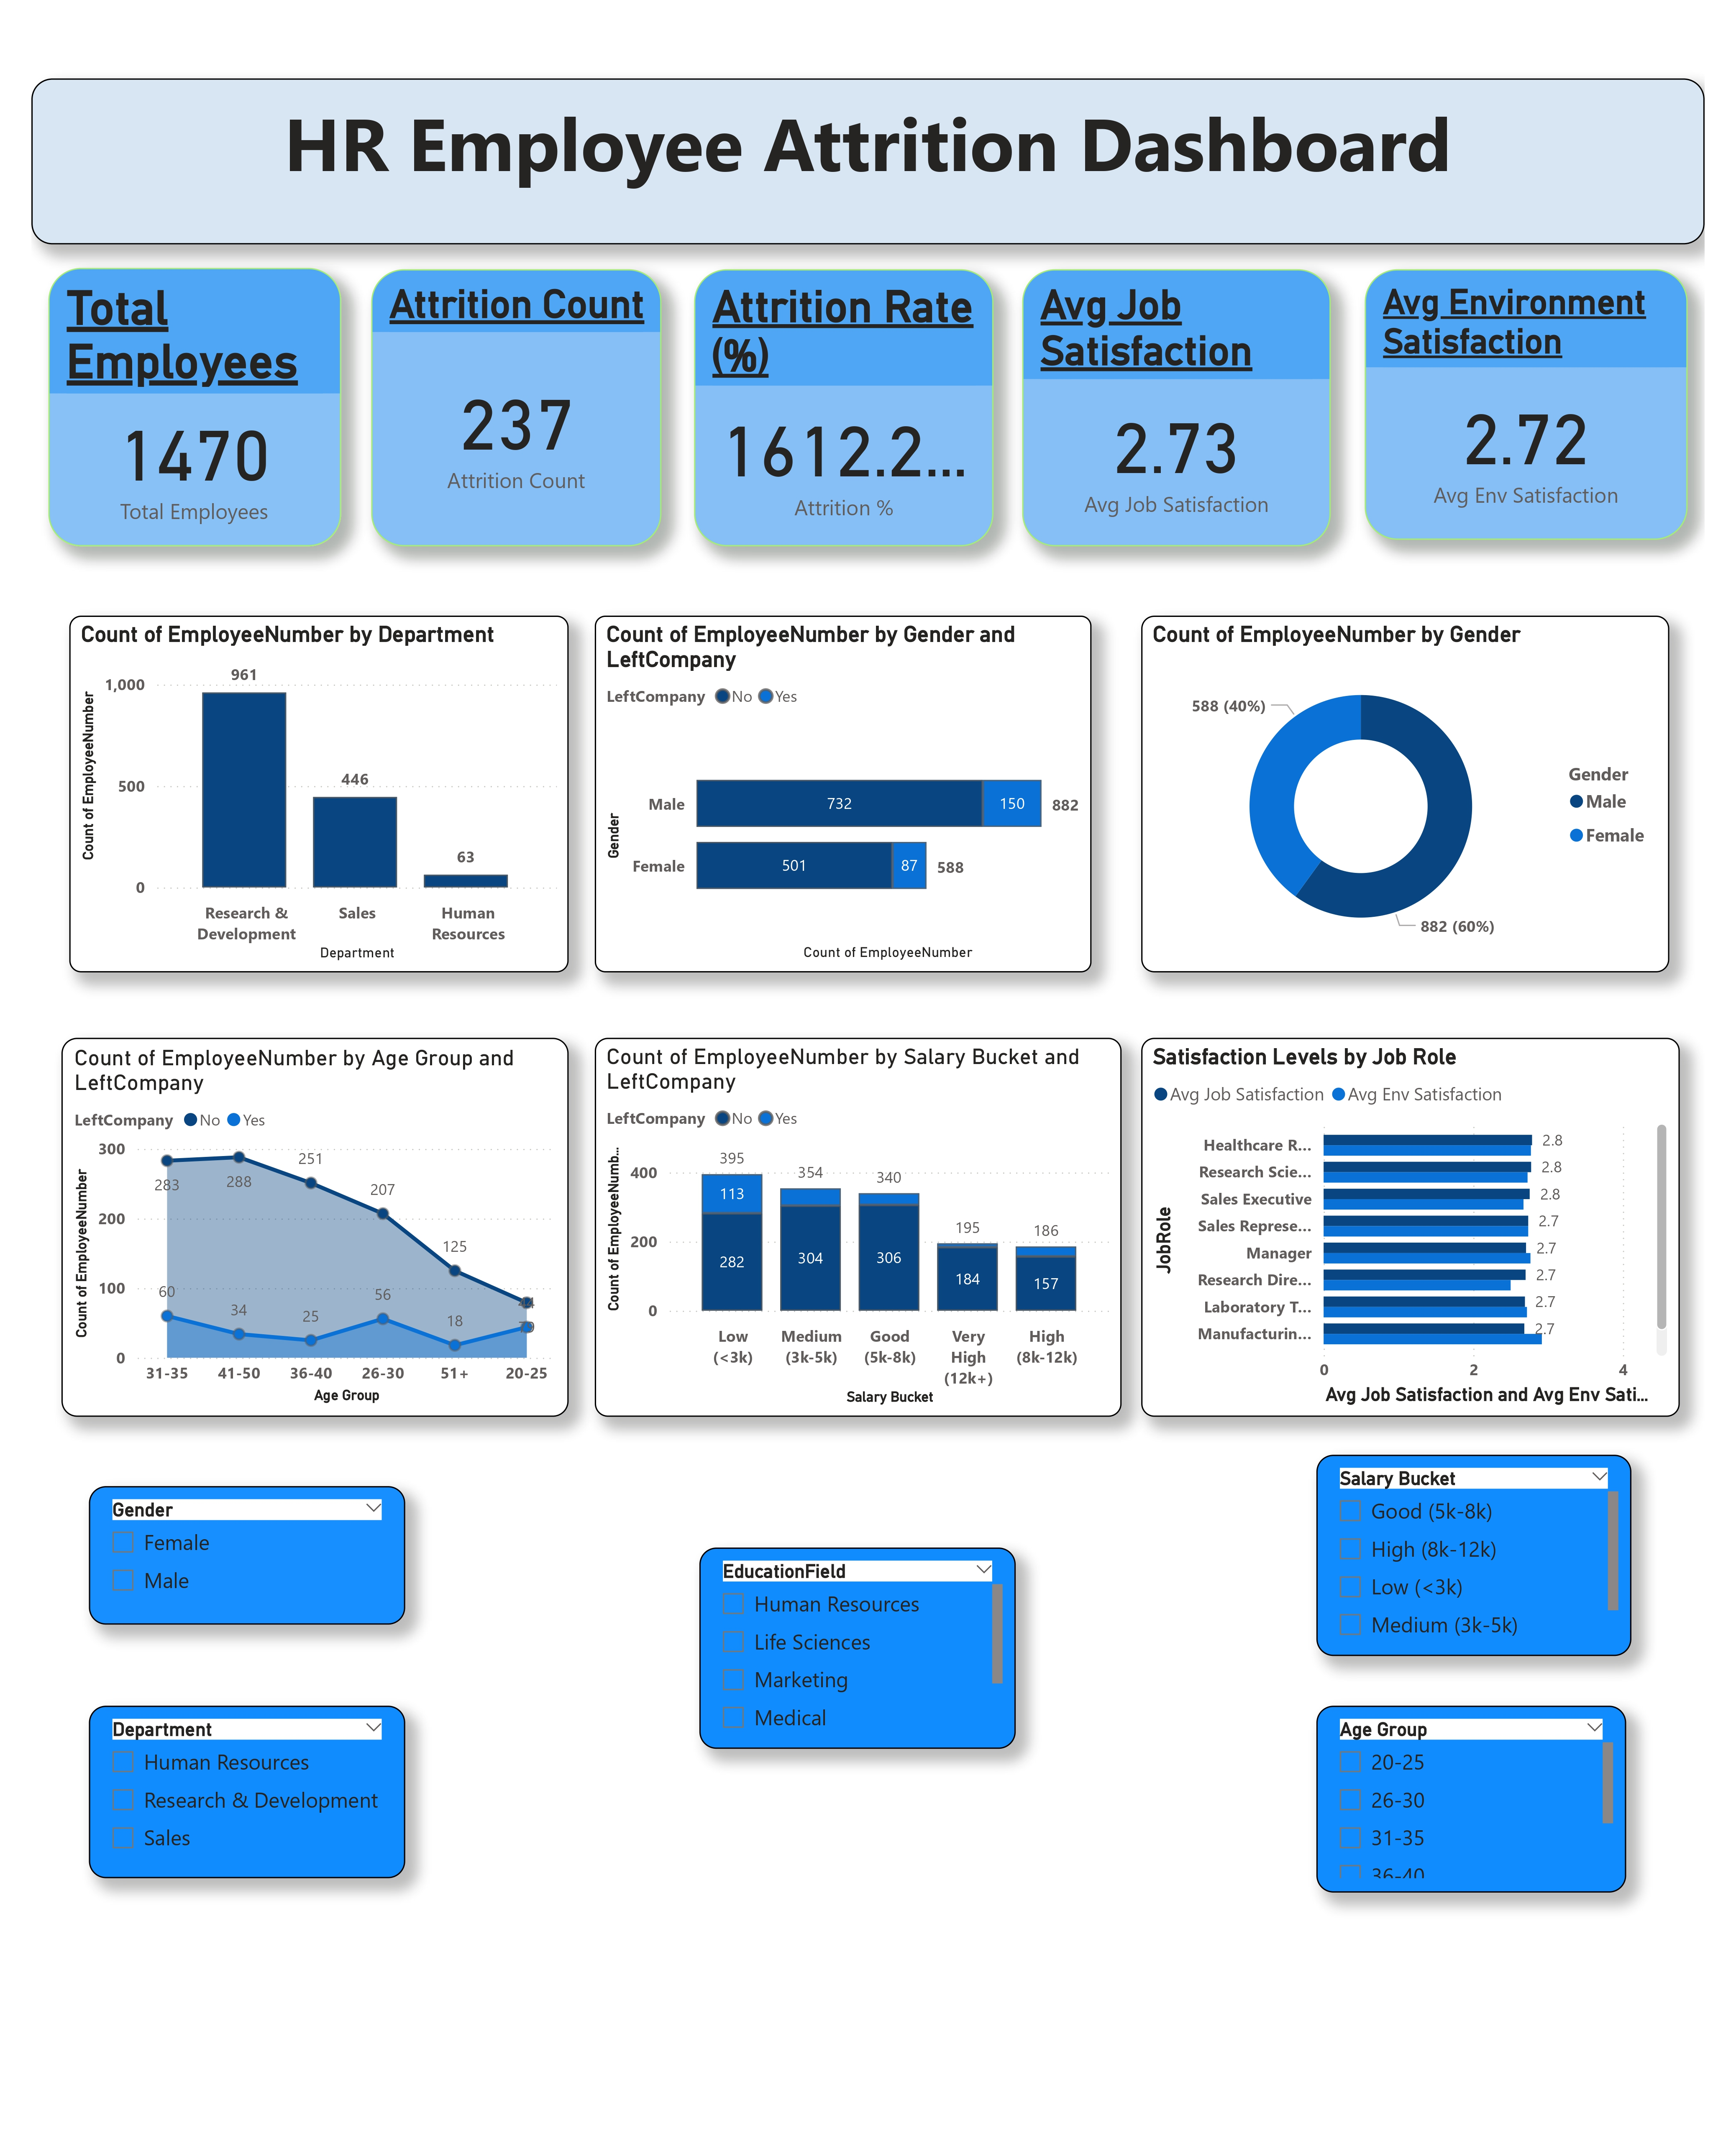

The dashboard page shown, as its layout file describes it:
{"tool":"powerbi","page":{"name":"Page 1","canvas":[1280,1600],"ordinal":0},"visuals":[{"type":"card","title":"Total Employees","fields":{"Values":["HR.Total Employees"]},"box":[12.9,181.4,223.7,212.7],"z":0,"group":"g1"},{"type":"group","id":"g1","title":"Group 1","box":[12.9,181.4,1254.3,212.9],"z":0},{"type":"card","title":"Attrition Count","fields":{"Values":["HR.Attrition Count"]},"box":[259.9,182.8,222.3,211.3],"z":1000,"group":"g1"},{"type":"columnChart","fields":{"Category":["HR.Department"],"Y":["CountNonNull(HR.EmployeeNumber)"]},"box":[28.6,447.1,382.9,272.9],"z":1000},{"type":"card","title":"Attrition Rate (%)","fields":{"Values":["HR.Attrition %"]},"box":[506.9,182.8,229.2,211.3],"z":2000,"group":"g1"},{"type":"barChart","fields":{"Category":["HR.Gender"],"Y":["CountNonNull(HR.EmployeeNumber)"],"Series":["HR.LeftCompany"]},"box":[431.4,447.1,380,272.9],"z":2000},{"type":"card","title":"Avg Job Satisfaction","fields":{"Values":["HR.Avg Job Satisfaction"]},"box":[758.2,182.8,235.7,211.4],"z":3000,"group":"g1"},{"type":"lineChart","fields":{"Category":["HR.Age Group"],"Series":["HR.LeftCompany"],"Y":["CountNonNull(HR.EmployeeNumber)"]},"box":[22.9,770,388.6,290],"z":3000},{"type":"card","title":" Avg Environment Satisfaction","fields":{"Values":["HR.Avg Env Satisfaction"]},"box":[1020.2,182.2,247.1,207.1],"z":4000,"group":"g1"},{"type":"donutChart","fields":{"Category":["HR.Gender"],"Y":["CountNonNull(HR.EmployeeNumber)"]},"box":[848.6,447.1,404.3,272.9],"z":4000},{"type":"columnChart","fields":{"Category":["HR.Salary Bucket"],"Y":["CountNonNull(HR.EmployeeNumber)"],"Series":["HR.LeftCompany"]},"box":[431.4,770,402.9,290],"z":5000},{"type":"clusteredBarChart","title":"Satisfaction Levels by Job Role","fields":{"Category":["HR.JobRole"],"Y":["HR.Avg Job Satisfaction","HR.Avg Env Satisfaction"]},"box":[848.6,770,412.9,290],"z":6000},{"type":"slicer","fields":{"Values":["HR.Gender"]},"box":[44.3,1112.9,241.4,105.7],"z":7000},{"type":"slicer","fields":{"Values":["HR.Department"]},"box":[44.3,1281.4,241.4,131.4],"z":8000},{"type":"slicer","fields":{"Values":["HR.EducationField"]},"box":[511.4,1160,241.4,154.3],"z":9000},{"type":"slicer","fields":{"Values":["HR.Age Group"]},"box":[982.9,1281.4,237.1,142.9],"z":10000},{"type":"slicer","fields":{"Values":["HR.Salary Bucket"]},"box":[982.9,1088.6,241.4,154.3],"z":11000},{"type":"textbox","box":[0,35.7,1280,127.1],"z":12000}]}

Visuals, with their boxes in screenshot pixels (x1, y1, x2, y2):
"Total Employees" card: locate(48, 269, 341, 547)
"Group 1" group: locate(48, 269, 1688, 547)
"Attrition Count" card: locate(371, 270, 662, 547)
columnChart - HR.Department x CountNonNull(HR.EmployeeNumber): locate(69, 616, 569, 972)
"Attrition Rate (%)" card: locate(694, 270, 993, 547)
barChart - HR.Gender x CountNonNull(HR.EmployeeNumber): locate(595, 616, 1092, 972)
"Avg Job Satisfaction" card: locate(1022, 270, 1331, 547)
lineChart - HR.Age Group x HR.LeftCompany: locate(61, 1038, 569, 1417)
" Avg Environment Satisfaction" card: locate(1365, 269, 1688, 540)
donutChart - HR.Gender x CountNonNull(HR.EmployeeNumber): locate(1141, 616, 1669, 972)
columnChart - HR.Salary Bucket x CountNonNull(HR.EmployeeNumber): locate(595, 1038, 1122, 1417)
"Satisfaction Levels by Job Role" clusteredBarChart: locate(1141, 1038, 1680, 1417)
slicer - HR.Gender: locate(89, 1486, 405, 1624)
slicer - HR.Department: locate(89, 1706, 405, 1878)
slicer - HR.EducationField: locate(700, 1548, 1016, 1749)
slicer - HR.Age Group: locate(1316, 1706, 1626, 1893)
slicer - HR.Salary Bucket: locate(1316, 1454, 1632, 1656)
textbox: locate(31, 78, 1705, 244)
